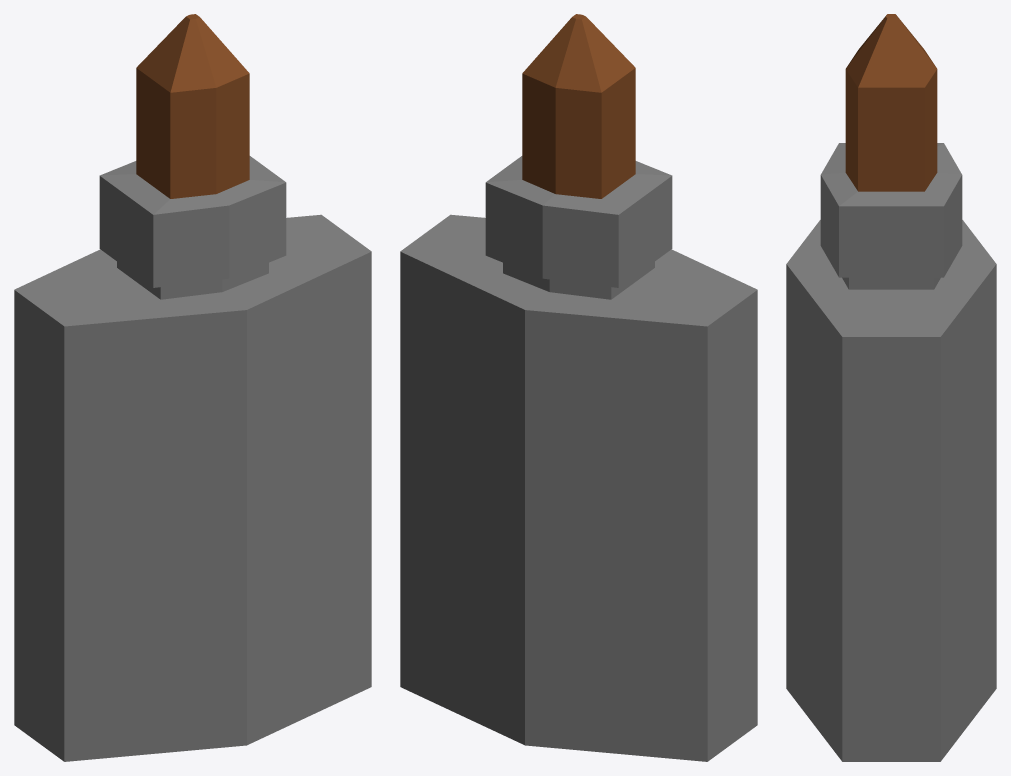
The model's file is Glue1.glb.
3 views of the same model, side by side, from view 1: azimuth 30°, elevation 25°; view 2: azimuth 150°, elevation 25°; view 3: azimuth 270°, elevation 25° (orthographic). The views are drawn at different scales.
Parts seen in each view (by area): view 1: Glue1; view 2: Glue1; view 3: Glue1.
Part boxes in pixels (<box>): Glue1: <box>14,14,371,761</box>; Glue1: <box>400,14,757,761</box>; Glue1: <box>786,14,996,761</box>.
Bounding box in the file's own units: 0.0891 × 0.191 × 0.0541.
